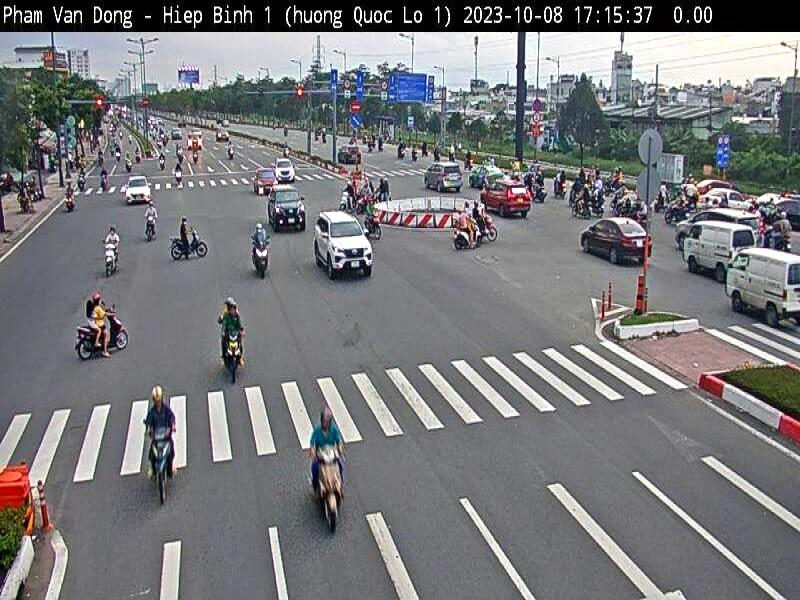car: (310, 204, 376, 333), (723, 241, 800, 338), (672, 216, 758, 288), (576, 206, 652, 265), (256, 179, 306, 263), (471, 178, 538, 235), (123, 169, 152, 220), (241, 159, 276, 198), (272, 156, 301, 186)
motorcycle: (35, 298, 143, 362)
